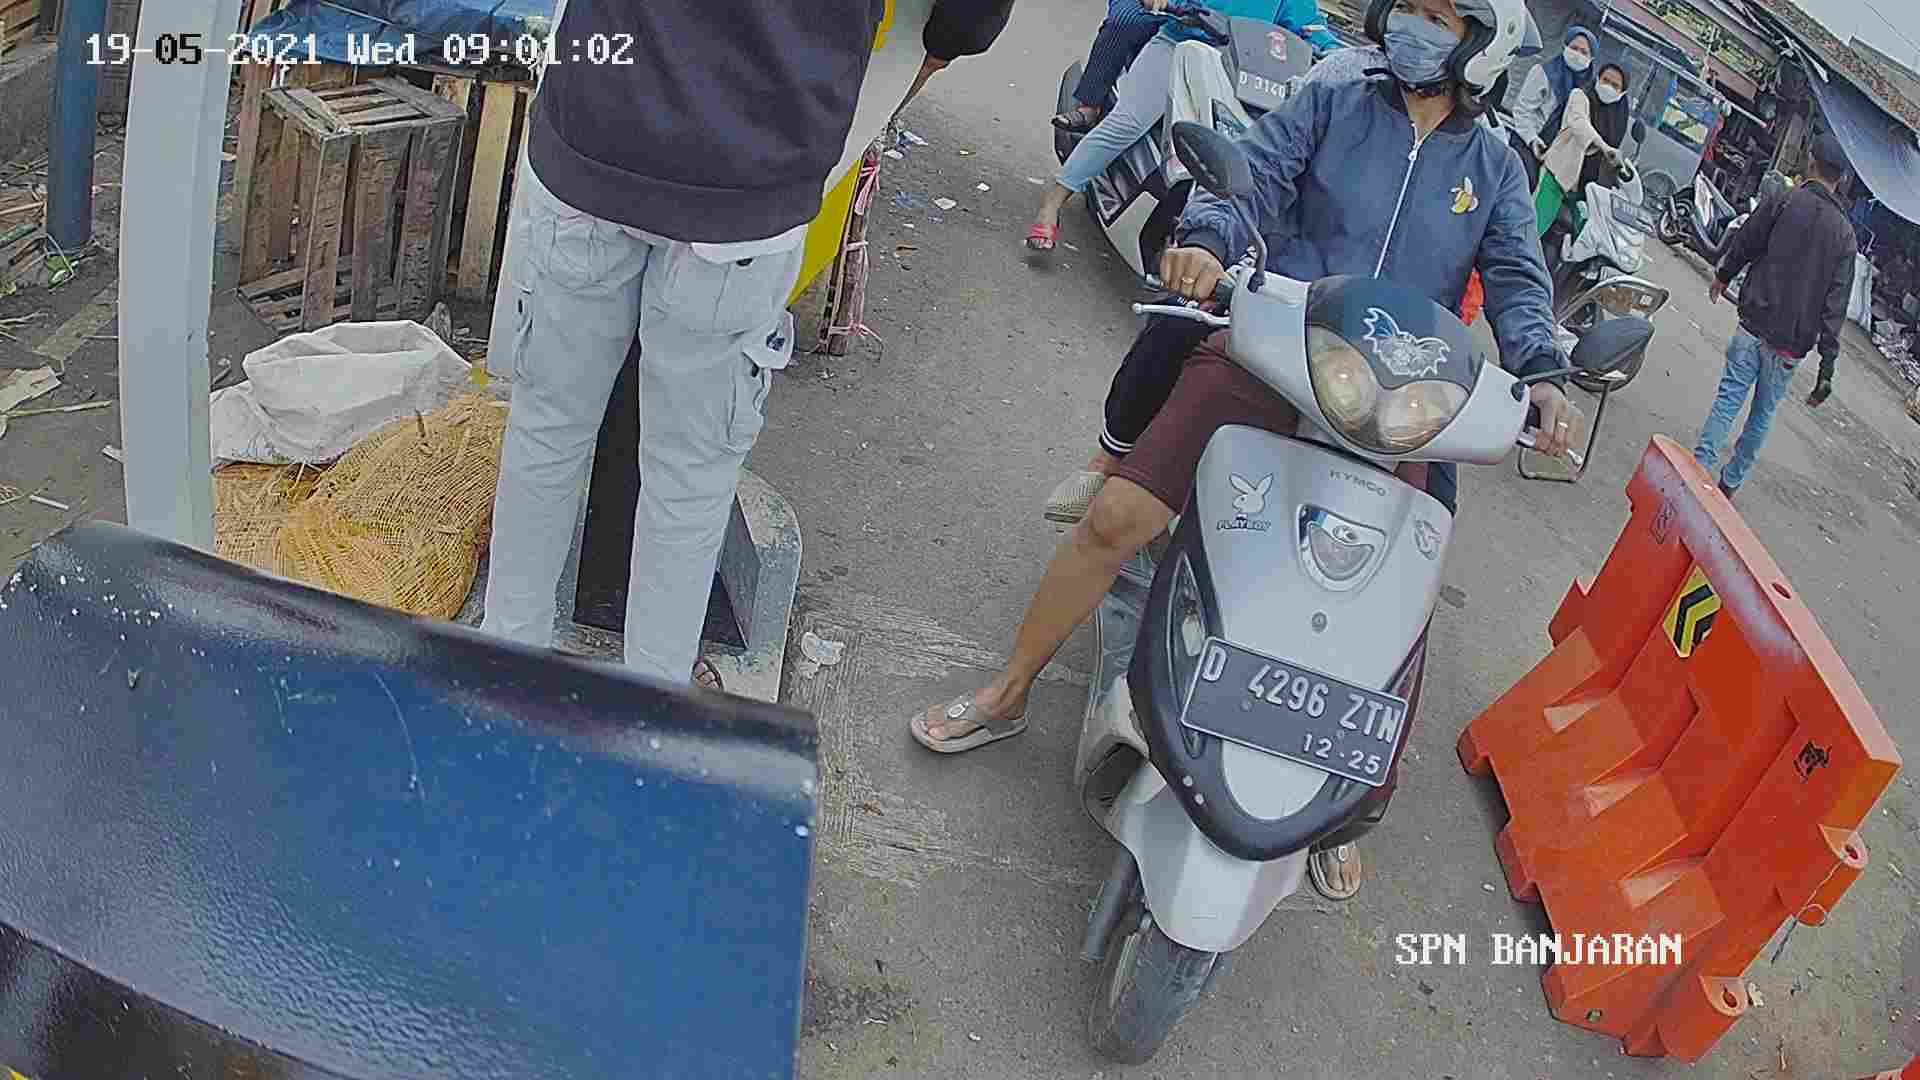motor: (1091, 215, 1542, 1035)
